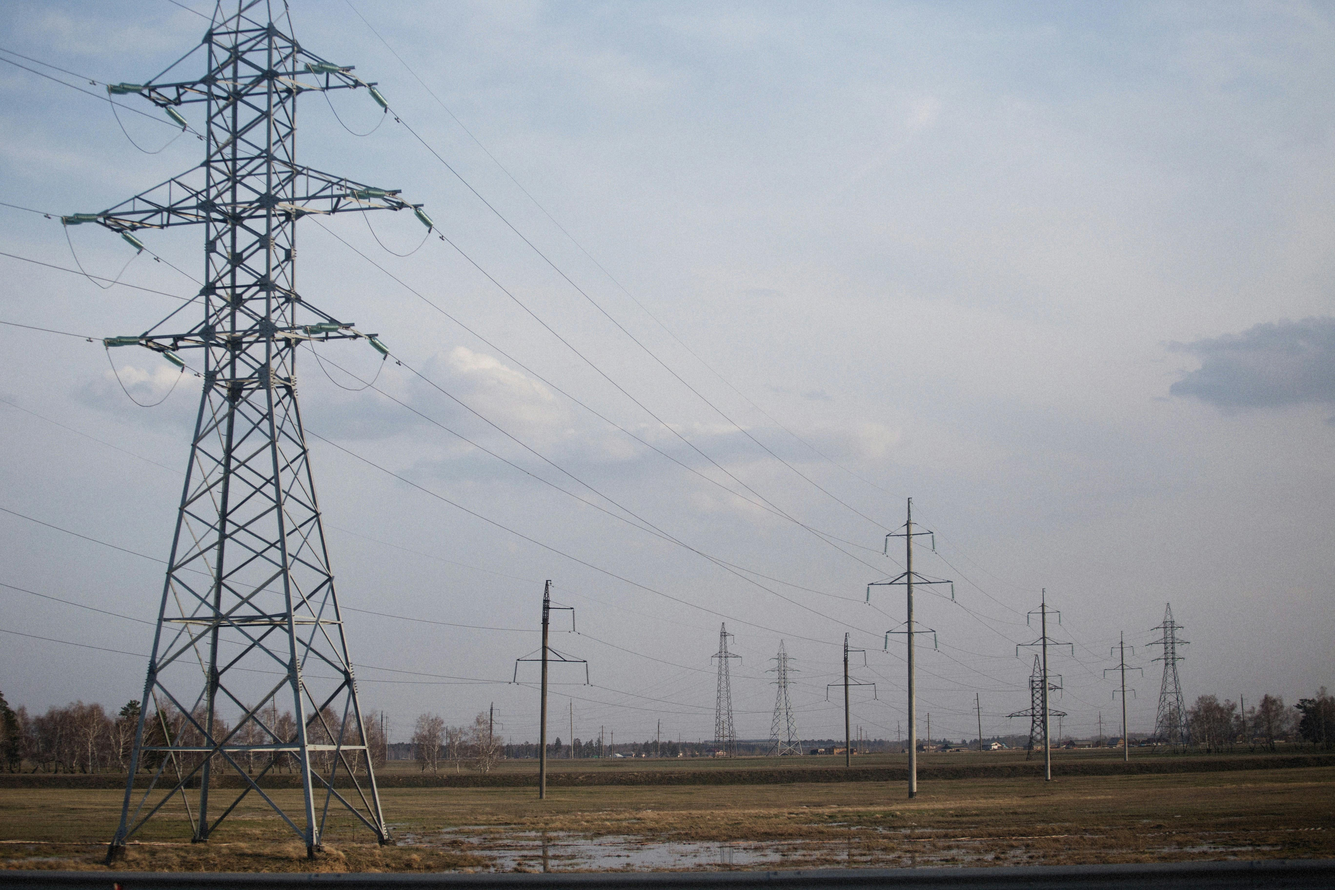insulator: (299, 315, 343, 340), (346, 185, 393, 202), (298, 57, 340, 76), (365, 331, 393, 359), (365, 82, 390, 112), (159, 344, 187, 370), (412, 202, 437, 231), (161, 106, 189, 131), (121, 228, 145, 253), (56, 213, 101, 226), (98, 334, 143, 347), (109, 81, 143, 97)
